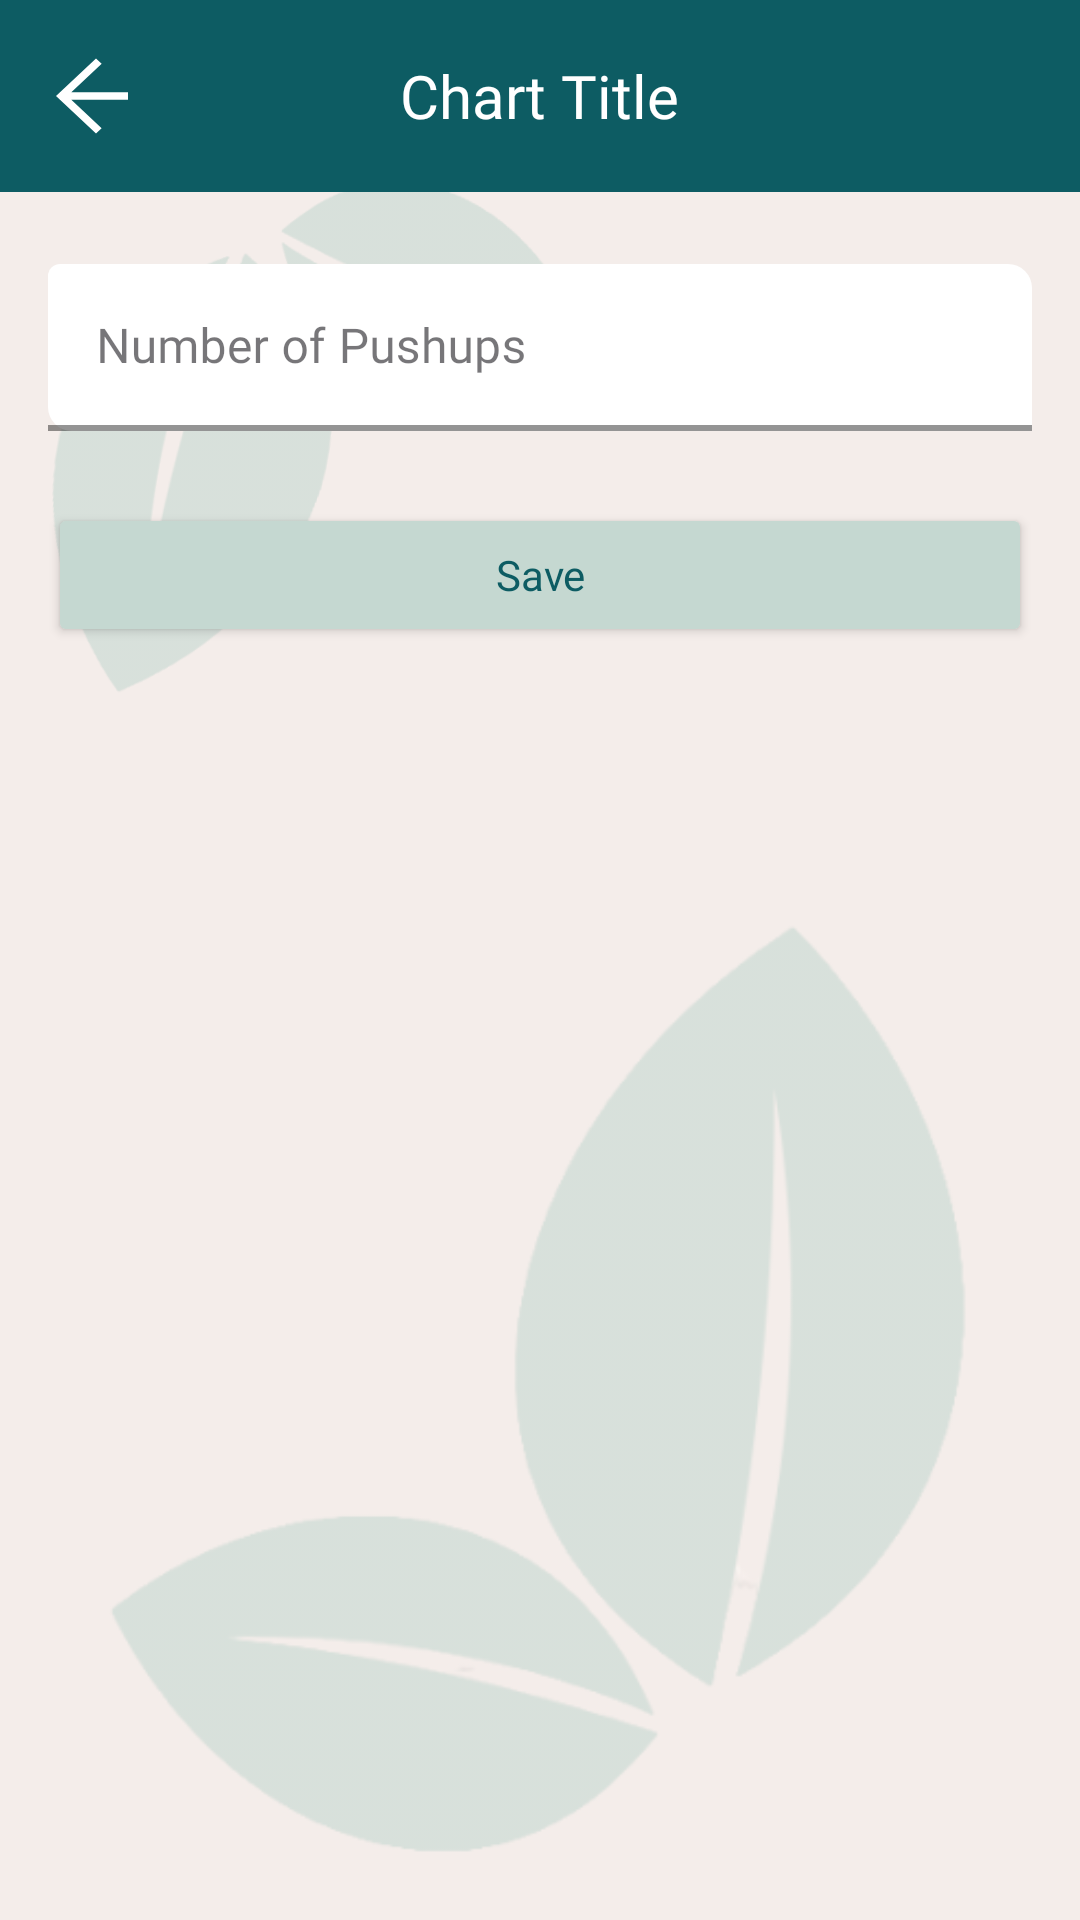

Screen size 1080 × 1920. Icon name, then its center in pixels as (x=x, y=y):
Back: (x=92, y=96)
